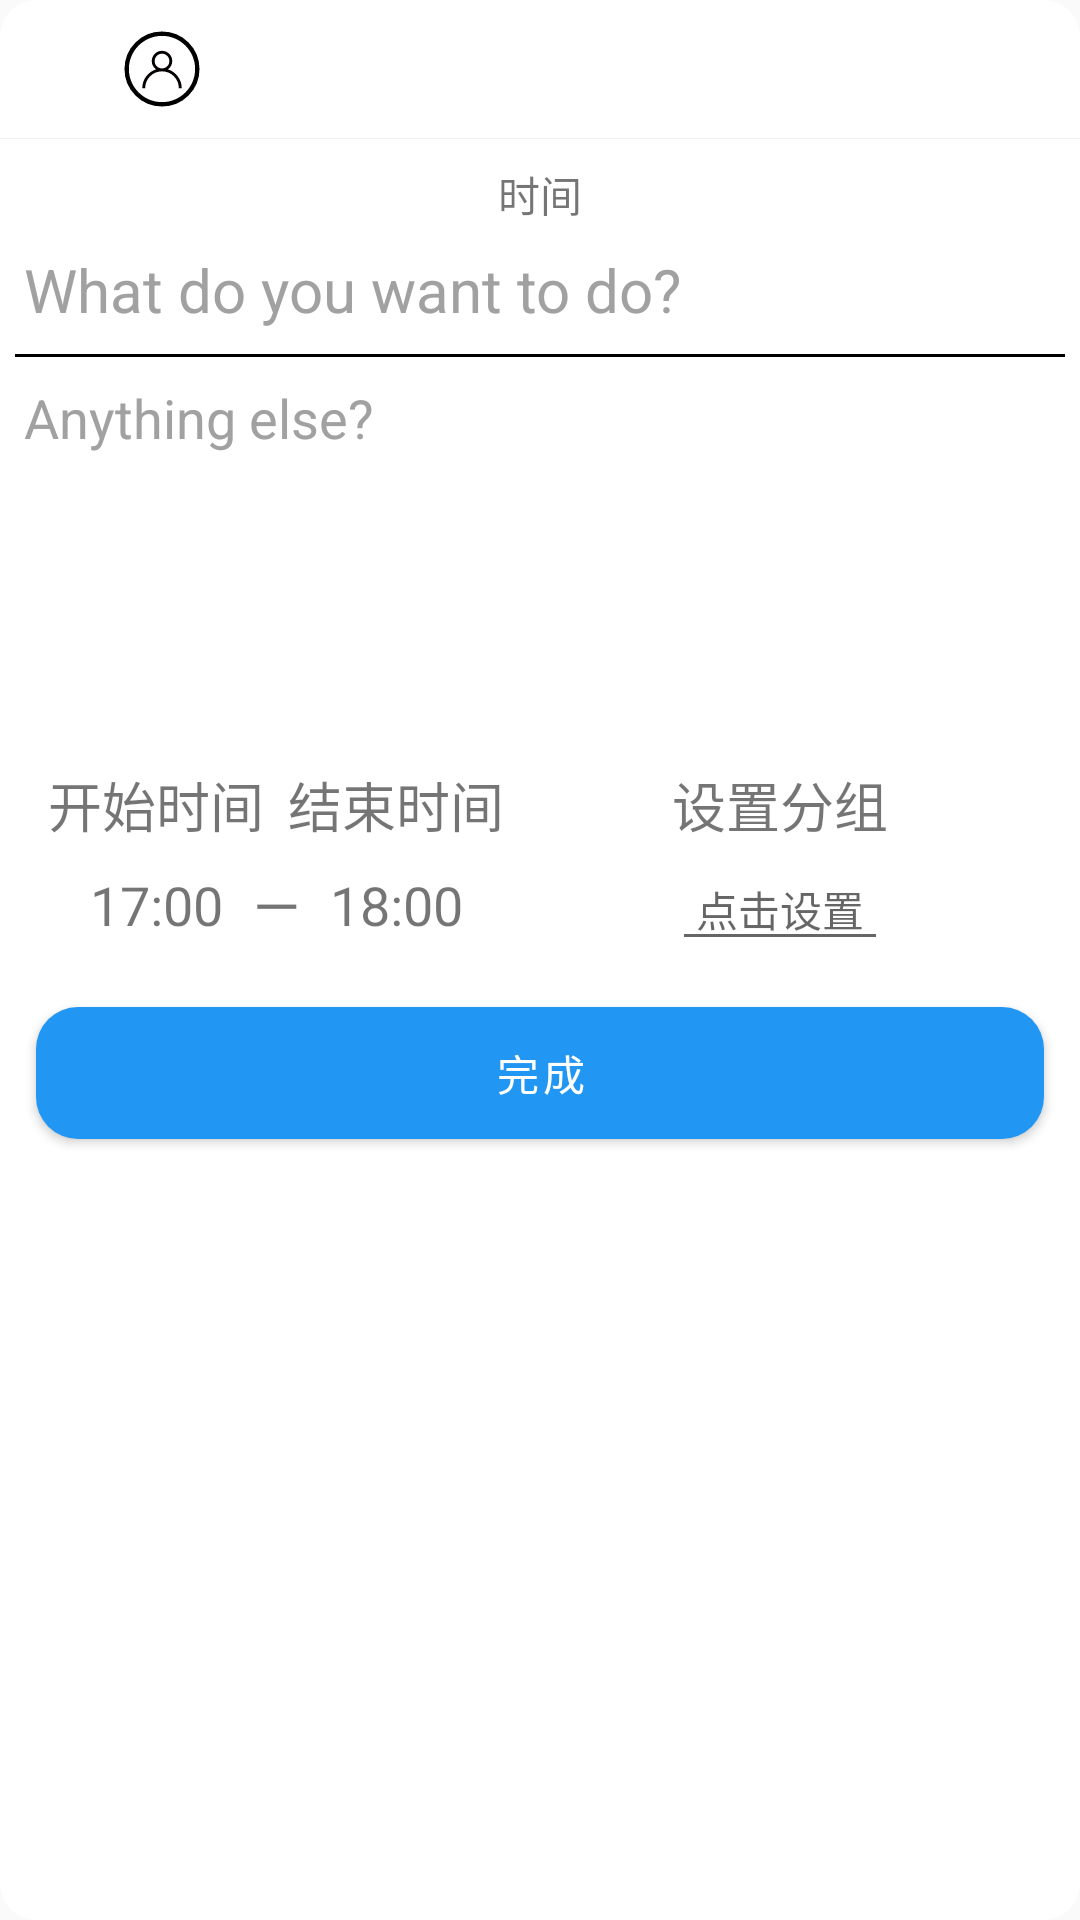

Where to tap for icons on this 1080w x 1920h app screen, as [x,y]:
account: [162,69]
